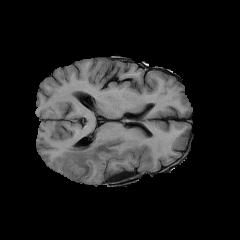glioma: (56, 134, 124, 179)
